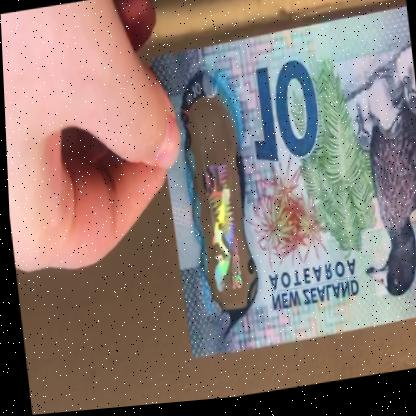10F: (192, 130, 248, 308)
